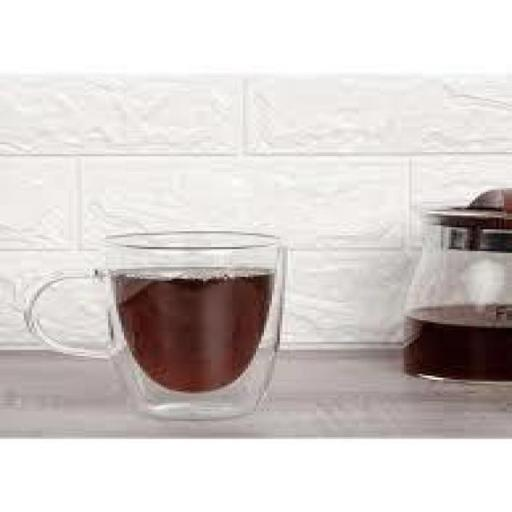glass: (12, 224, 308, 429), (373, 202, 512, 383)
